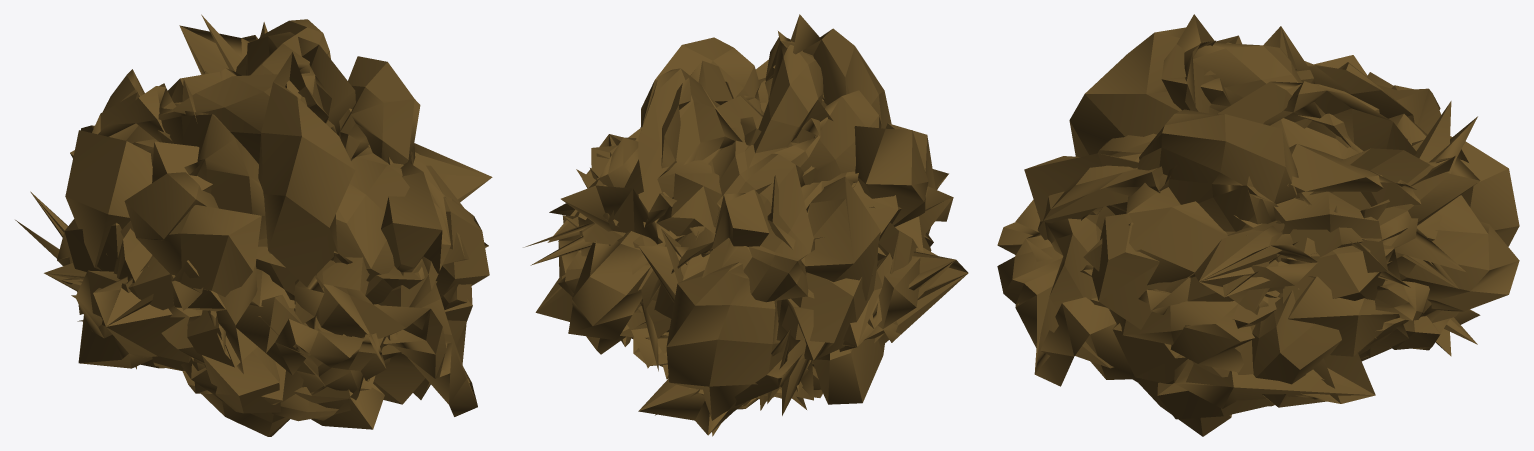
Rendered from Crumbled Paper Brown NEW.fbx.
The picture shows the model from 3 angles, left to right: view 1: azimuth 30°, elevation 25°; view 2: azimuth 150°, elevation 25°; view 3: azimuth 270°, elevation 25°; orthographic projection. The views are drawn at different scales.
Visible parts, largest first — view 1: Crumbled Paper 1, Crumbled Paper 2; view 2: Crumbled Paper 1, Crumbled Paper 2; view 3: Crumbled Paper 1, Crumbled Paper 2.
Boxes of the visible parts, x1,y1,x2,y2 form: Crumbled Paper 1: (15, 14, 489, 416); Crumbled Paper 2: (44, 143, 492, 436); Crumbled Paper 1: (535, 14, 968, 420); Crumbled Paper 2: (523, 134, 948, 436); Crumbled Paper 1: (997, 14, 1519, 436); Crumbled Paper 2: (997, 195, 1519, 382).
Size of the model in its own units: 121 by 113 by 144.
